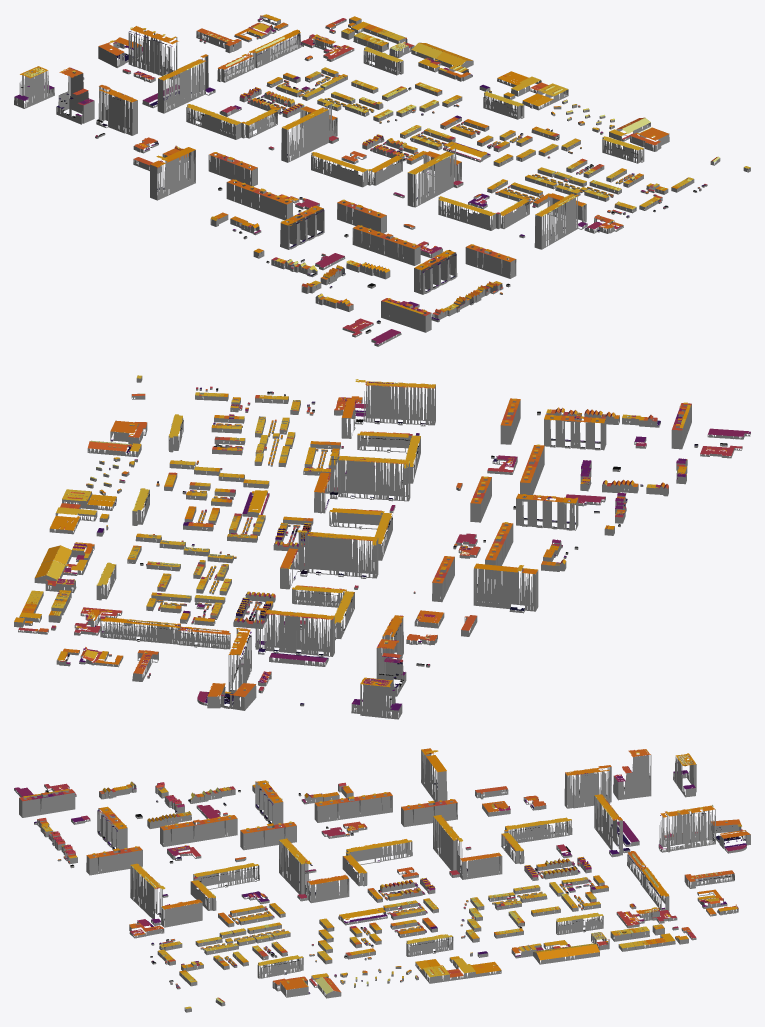
The model's file is voorhof_84000_445000.glb.
3 renders of one model, top to bottom at view 1: azimuth 30°, elevation 25°; view 2: azimuth 150°, elevation 25°; view 3: azimuth 270°, elevation 25°, orthographic. The views are drawn at different scales.
Size of the model in its own units: 775 by 65.28 by 1028.
